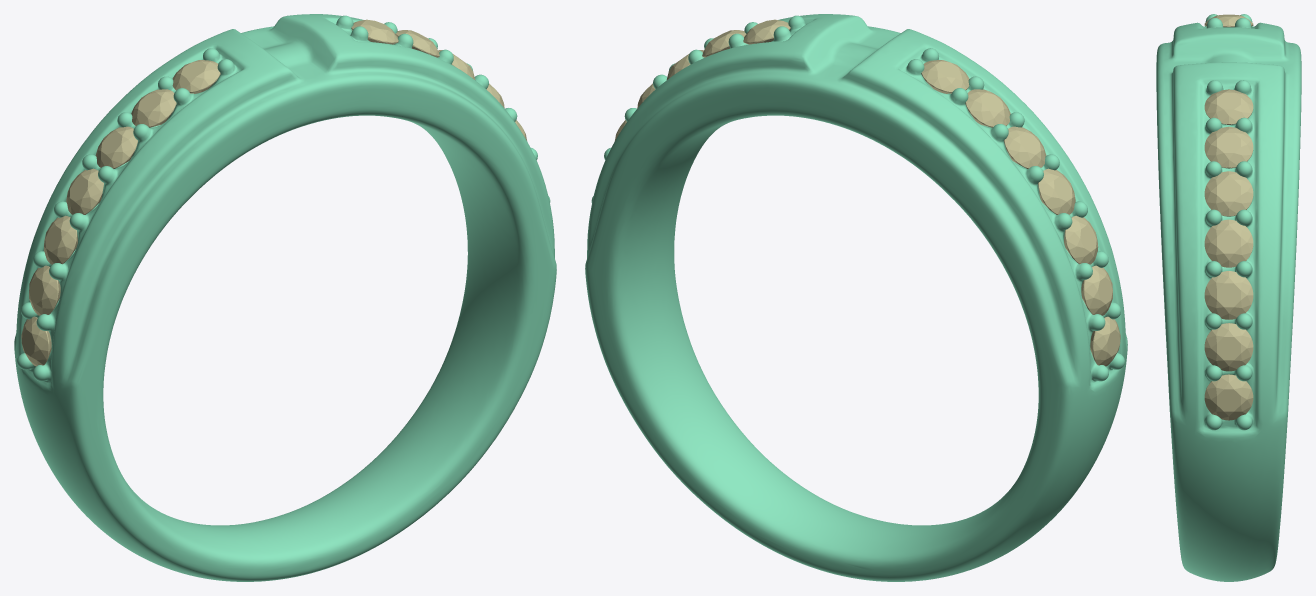
3 renders of one model, left to right at view 1: azimuth 30°, elevation 25°; view 2: azimuth 150°, elevation 25°; view 3: azimuth 270°, elevation 25°, orthographic. The views are drawn at different scales.
Parts seen in each view (by area): view 1: Metal02, Diamond_Gem.012, Diamond_Gem.013, Diamond_Gem.011, Diamond_Gem.009, Diamond_Gem.010, Diamond_Gem.008, Diamond_Gem.007, Diamond_Gem.003; view 2: Metal02, Diamond_Gem.013, Diamond_Gem.012, Diamond_Gem.011, Diamond_Gem.009, Diamond_Gem.010, Diamond_Gem.008, Diamond_Gem.007, Diamond_Gem.003; view 3: Metal02, Diamond_Gem.004, Diamond_Gem.005, Diamond_Gem, Diamond_Gem.006, Diamond_Gem.001, Diamond_Gem.002, Diamond_Gem.003, Diamond_Gem.010.
Boxes of the visible parts, x1,y1,x2,y2 form: Metal02: [14, 14, 556, 581]; Diamond_Gem.012: [95, 126, 137, 168]; Diamond_Gem.013: [66, 168, 103, 214]; Diamond_Gem.011: [131, 89, 176, 127]; Diamond_Gem.009: [44, 215, 77, 264]; Diamond_Gem.010: [172, 60, 220, 93]; Diamond_Gem.008: [29, 265, 60, 315]; Diamond_Gem.007: [21, 316, 51, 366]; Diamond_Gem.003: [351, 19, 398, 44]; Metal02: [585, 14, 1127, 581]; Diamond_Gem.013: [1038, 168, 1075, 214]; Diamond_Gem.012: [1004, 126, 1046, 168]; Diamond_Gem.011: [965, 89, 1010, 127]; Diamond_Gem.009: [1064, 215, 1098, 264]; Diamond_Gem.010: [921, 60, 969, 93]; Diamond_Gem.008: [1081, 265, 1112, 315]; Diamond_Gem.007: [1090, 316, 1120, 366]; Diamond_Gem.003: [743, 19, 790, 44]; Metal02: [1156, 14, 1301, 581]; Diamond_Gem.004: [1204, 271, 1253, 319]; Diamond_Gem.005: [1204, 323, 1253, 371]; Diamond_Gem: [1204, 219, 1253, 267]; Diamond_Gem.006: [1204, 374, 1253, 420]; Diamond_Gem.001: [1204, 171, 1253, 216]; Diamond_Gem.002: [1204, 126, 1253, 168]; Diamond_Gem.003: [1204, 89, 1253, 124]; Diamond_Gem.010: [1204, 14, 1253, 27].
Bounding box in the file's own units: 22.25 × 21.81 × 5.66.
